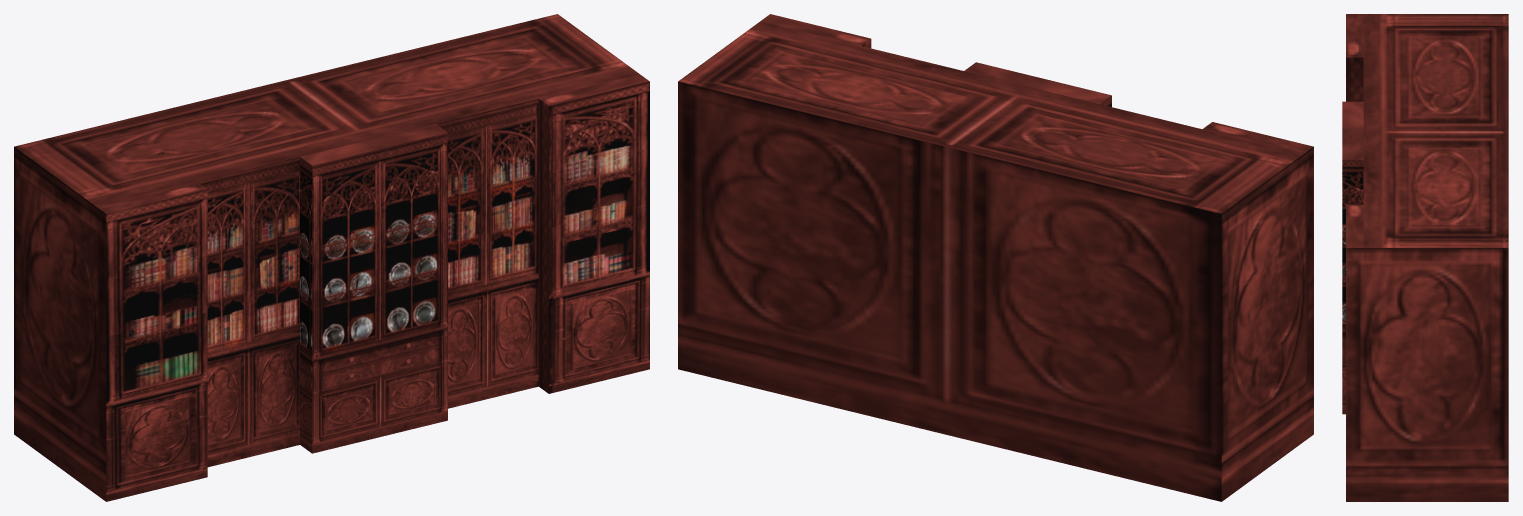
File: wardrobe_2.fbx
The picture shows the model from 3 angles, left to right: view 1: azimuth 30°, elevation 25°; view 2: azimuth 150°, elevation 25°; view 3: azimuth 270°, elevation 25°; orthographic projection. The views are drawn at different scales.
Visible parts, largest first — view 1: Cube; view 2: Cube; view 3: Cube.
Part boxes in pixels (box(x1,y1,x2,y2)): Cube: box(14, 14, 649, 501); Cube: box(678, 14, 1313, 501); Cube: box(1342, 14, 1508, 501).
Bounding box in the file's own units: 319 × 161 × 95.66.
